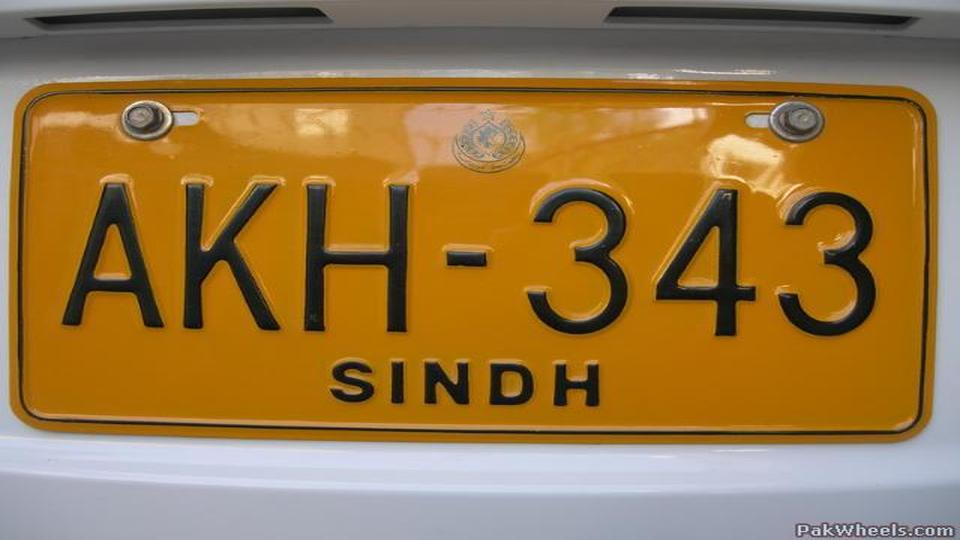NumberPlate: (9, 83, 934, 442)
